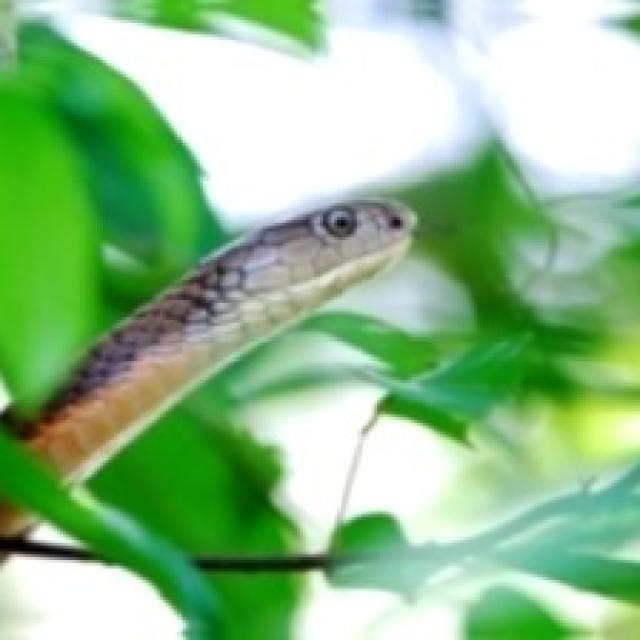king cobra: (14, 200, 411, 480), (17, 200, 411, 480)
